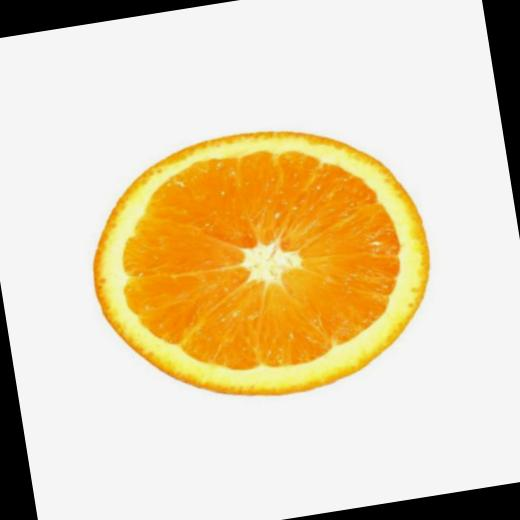Grape: (72, 109, 443, 422)
